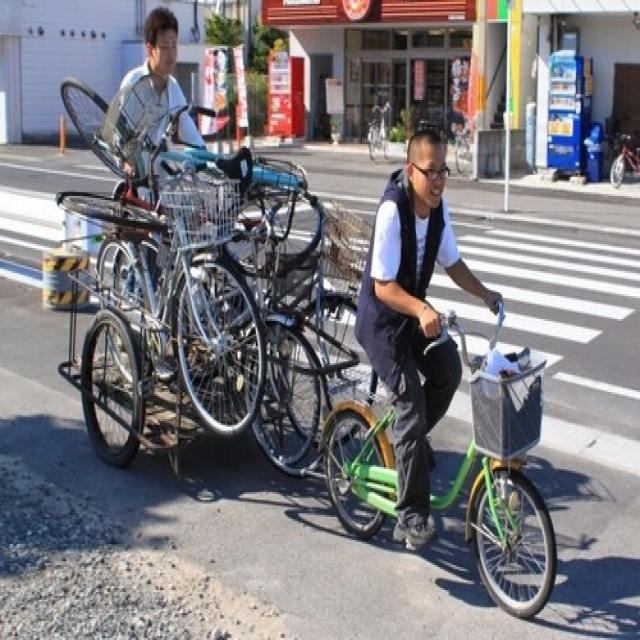basket: (466, 353, 546, 462), (162, 171, 236, 257)
